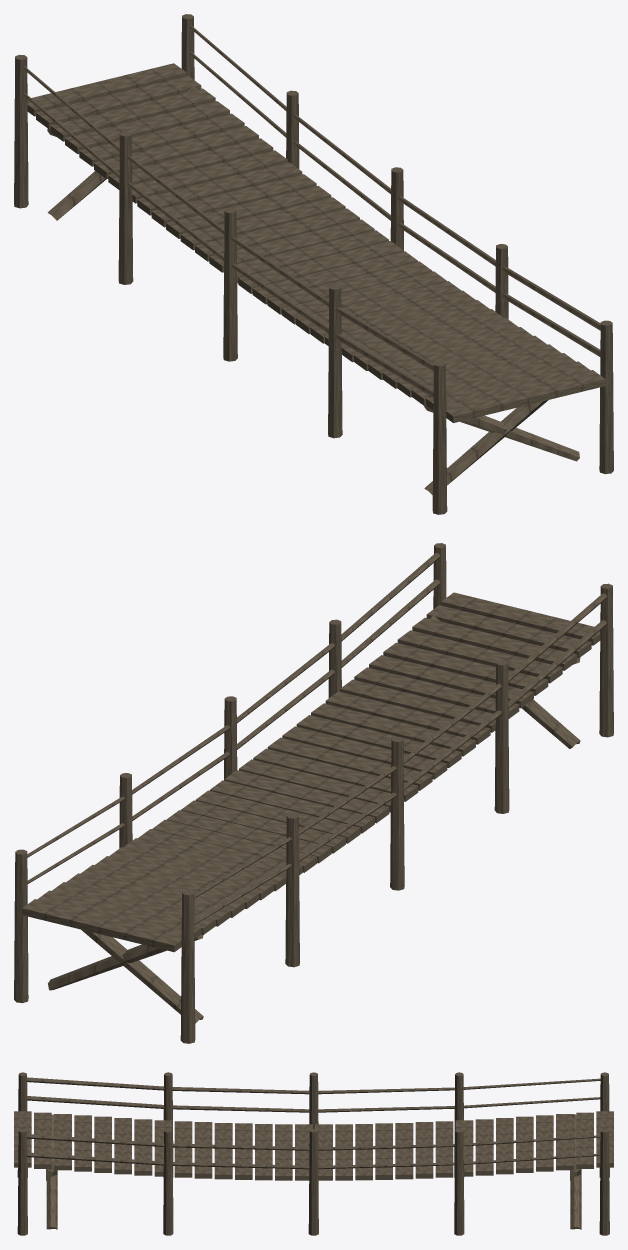
File: wood_bridge_v02.glb
The picture shows the model from 3 angles, top to bottom: view 1: azimuth 30°, elevation 25°; view 2: azimuth 150°, elevation 25°; view 3: azimuth 270°, elevation 25°; orthographic projection. The views are drawn at different scales.
Parts seen in each view (by area): view 1: wood_bridge_v02; view 2: wood_bridge_v02; view 3: wood_bridge_v02.
Part boxes in pixels (x1,y1,x2,y2): wood_bridge_v02: [14, 14, 613, 514]; wood_bridge_v02: [14, 543, 613, 1043]; wood_bridge_v02: [14, 1072, 613, 1235].
Size of the model in its own units: 4.94 by 3.9 by 20.62.
Materials: 1 (1 with a texture image).
